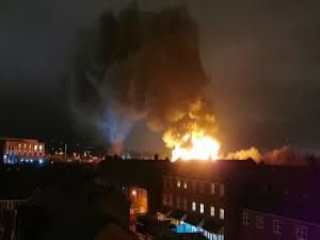fire: (163, 132, 224, 159)
smoke: (91, 15, 214, 129), (233, 141, 305, 170)
